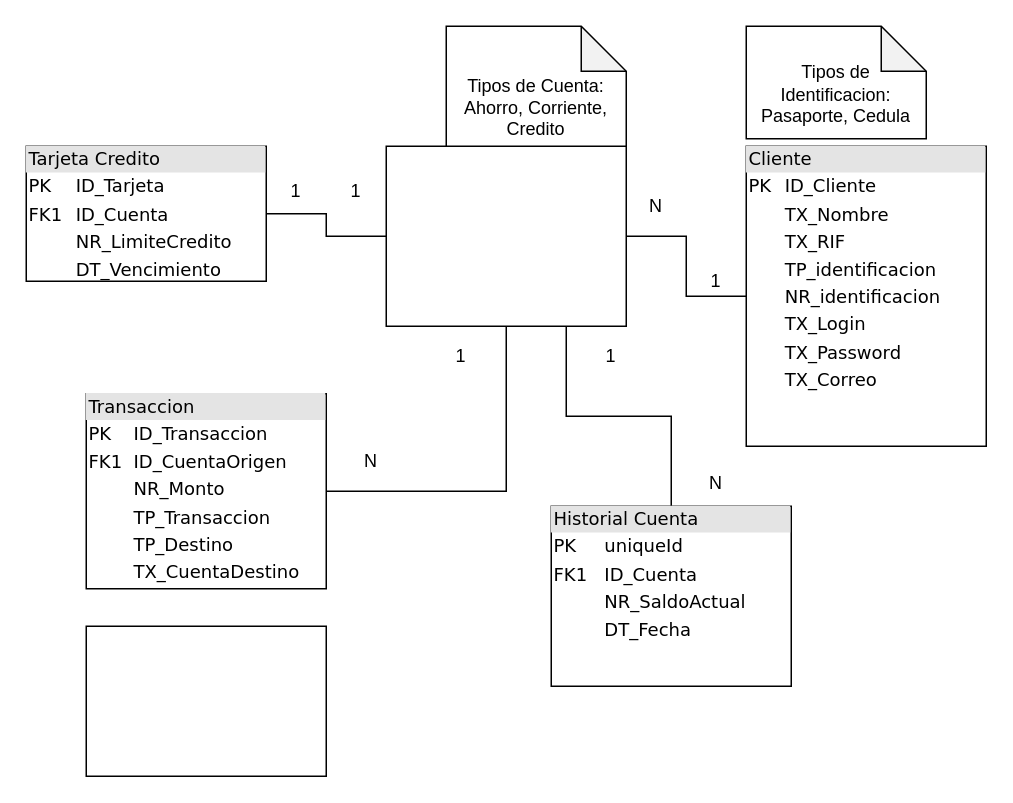
The diagram is 1013 pixels wide and 803 high, and some of its shapes have lost their labels. Each missing label, with the centre of its shape:
"Comercio PK ID_Comercio TX_Nombre" goes at point (205, 700).
"Cuenta PK ID_Cuenta FK1 ID_Cliente TP_TipoCuenta NR_Saldo" goes at point (505, 235).
